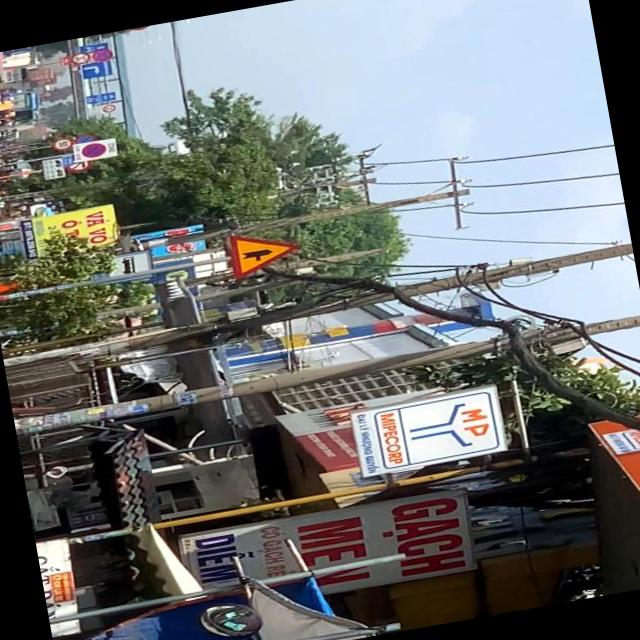W-207b: (228, 223, 302, 280)
